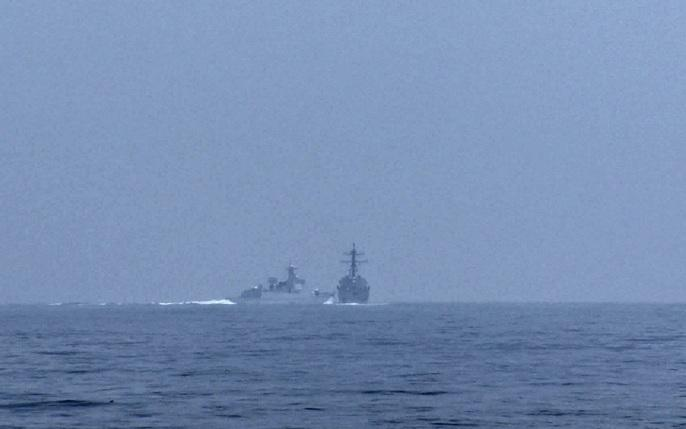MIL_Ship: (232, 259, 336, 308), (319, 241, 382, 307)
